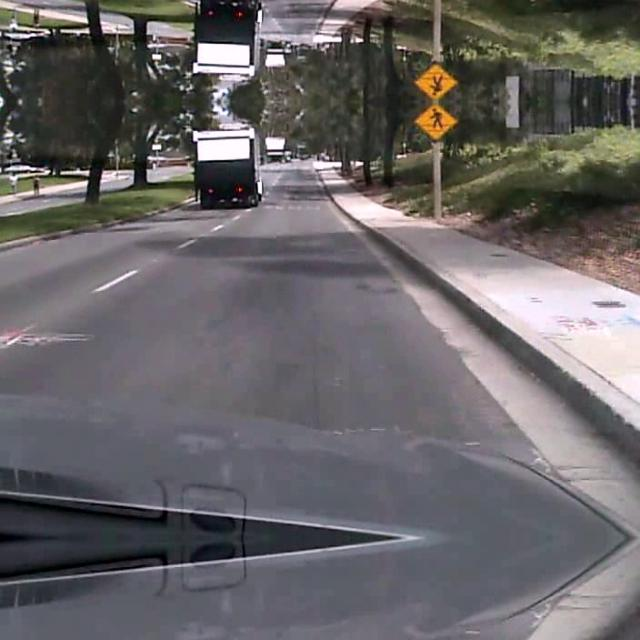pedestrianCrossing: (414, 101, 456, 139), (414, 63, 456, 101)
